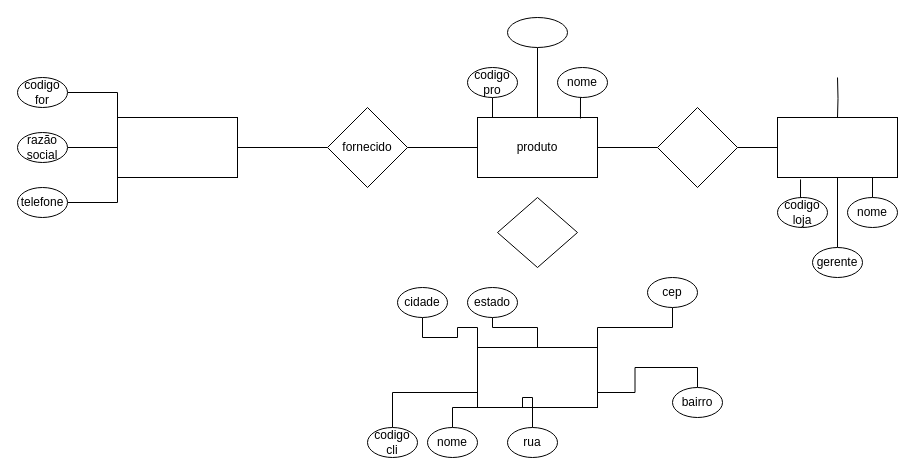
The diagram is 915 pixels wide and 475 high, and some of its shapes have lost their labels. Here are the shapes that lost their labels. From the top down, the box of each, then its label:
(506, 16, 568, 48): quantidade
(116, 116, 238, 178): fornecedor
(656, 106, 738, 188): adquirir
(776, 116, 898, 178): loja
(496, 196, 578, 268): comprar
(476, 346, 598, 408): cliente
